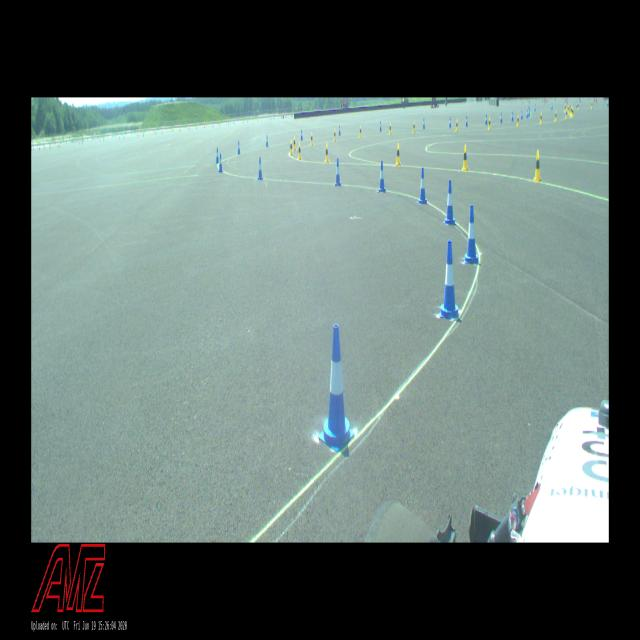blue_cone: (319, 325, 354, 451), (439, 240, 460, 320), (464, 204, 479, 264), (444, 180, 455, 225), (418, 168, 427, 204), (378, 160, 386, 192), (334, 158, 342, 186), (258, 157, 263, 180), (218, 153, 223, 172), (448, 115, 452, 128), (216, 147, 219, 163), (422, 118, 426, 129), (511, 110, 514, 122), (465, 115, 468, 126), (338, 125, 341, 136), (379, 121, 382, 132), (238, 142, 240, 154), (500, 112, 502, 123), (300, 129, 302, 140), (485, 114, 487, 124), (266, 136, 268, 146), (520, 110, 522, 119)
yellow_cone: (532, 150, 542, 182), (462, 145, 468, 171), (396, 142, 401, 166), (324, 144, 330, 163), (297, 141, 302, 160), (412, 121, 416, 134), (290, 140, 293, 155), (293, 136, 296, 151), (310, 132, 313, 146), (359, 125, 362, 138), (333, 128, 336, 141), (488, 117, 491, 129), (554, 110, 557, 122), (565, 110, 568, 120), (517, 114, 519, 127), (389, 122, 391, 135), (540, 112, 542, 124), (456, 120, 458, 132)
